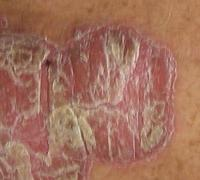plaque psoriasis: (0, 10, 175, 180), (188, 0, 200, 180)
